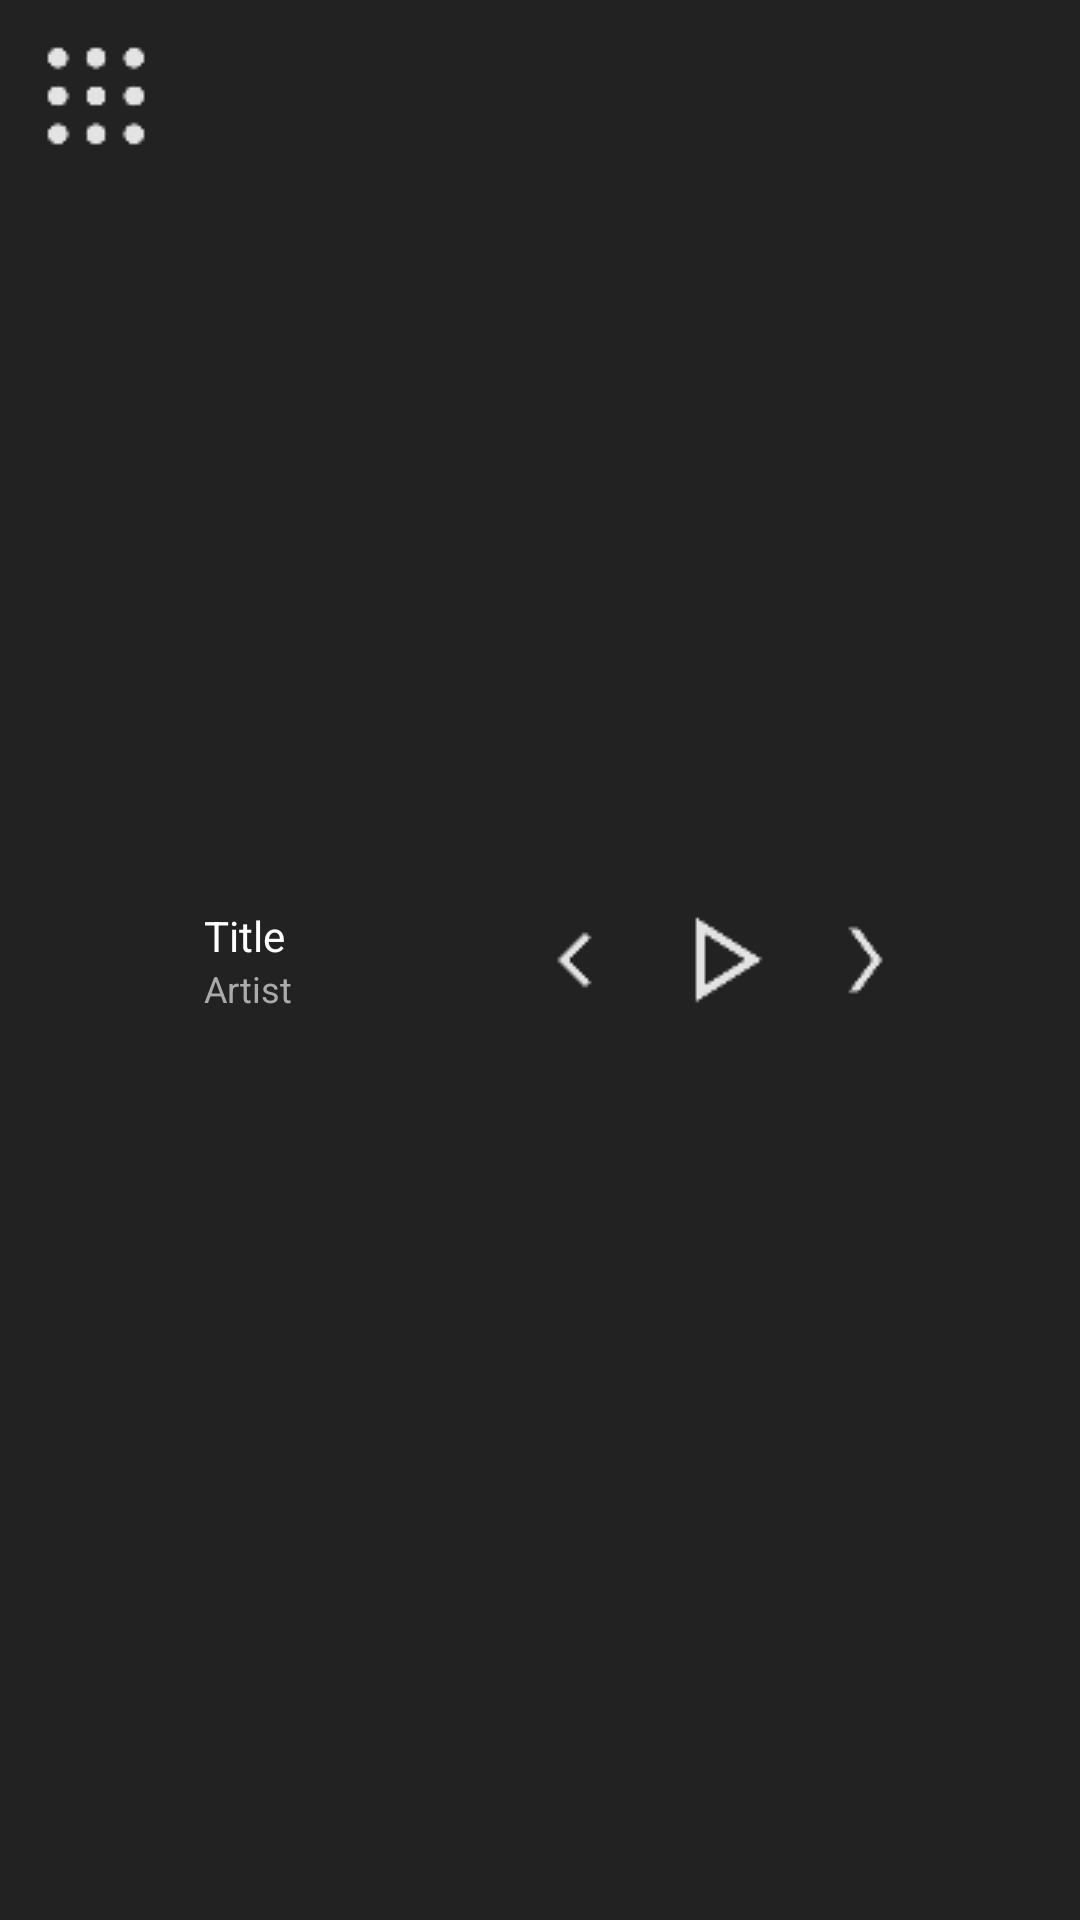

Named icons in this screenshot (1080px x 1920px) and their centers, (x,y):
next: (865,960)
play: (729,960)
prev: (574,960)
